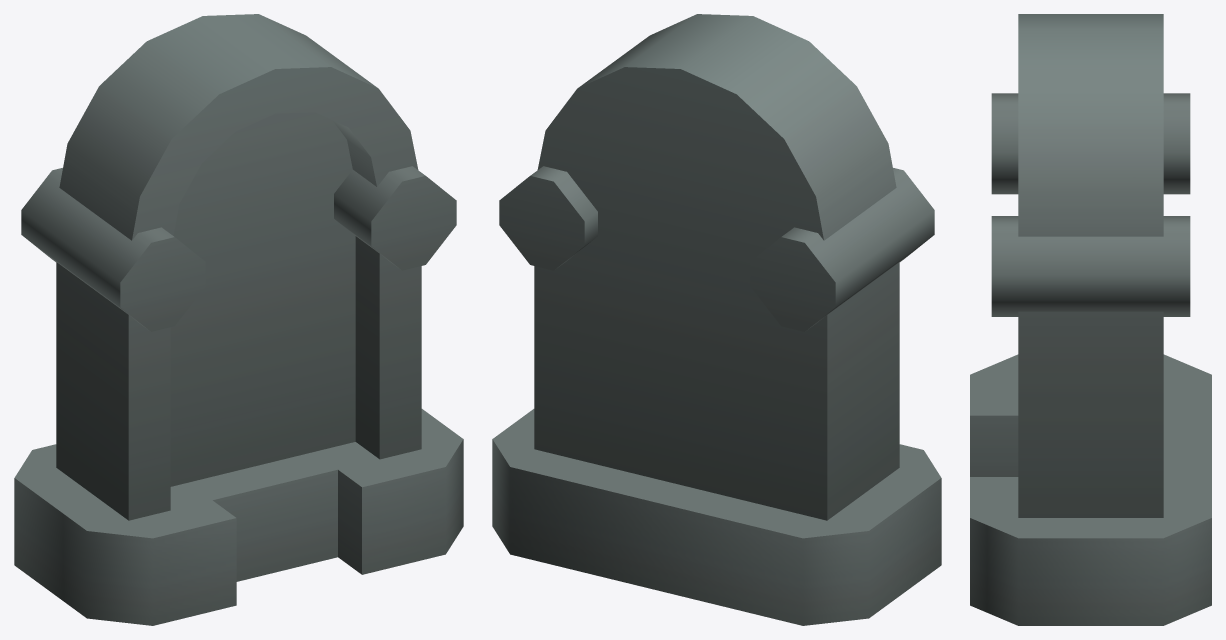
Rendered from stele-moussue.glb.
The picture shows the model from 3 angles, left to right: view 1: azimuth 30°, elevation 25°; view 2: azimuth 150°, elevation 25°; view 3: azimuth 270°, elevation 25°; orthographic projection.
Visible parts, largest first — view 1: gravestone-round; view 2: gravestone-round; view 3: gravestone-round.
Part boxes in pixels (x1=…): gravestone-round: x1=14, y1=14, x2=463, y2=625; gravestone-round: x1=492, y1=14, x2=941, y2=625; gravestone-round: x1=970, y1=14, x2=1211, y2=625.
Bounding box in the file's own units: 1.25 × 1.6 × 0.6956.
1 material, 1 textured.
